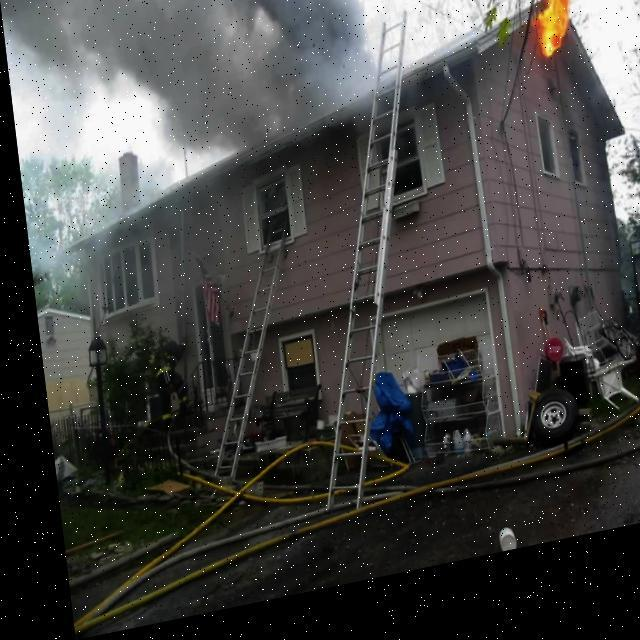Fire: (515, 0, 585, 86)
